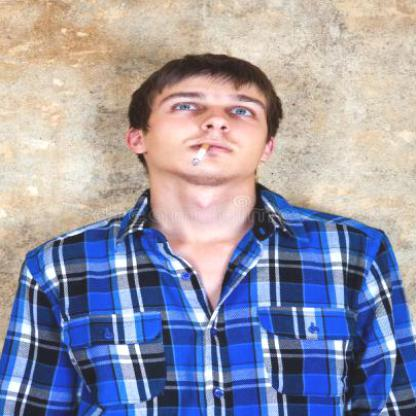cigarette: (188, 142, 214, 168)
person: (12, 50, 415, 415)
